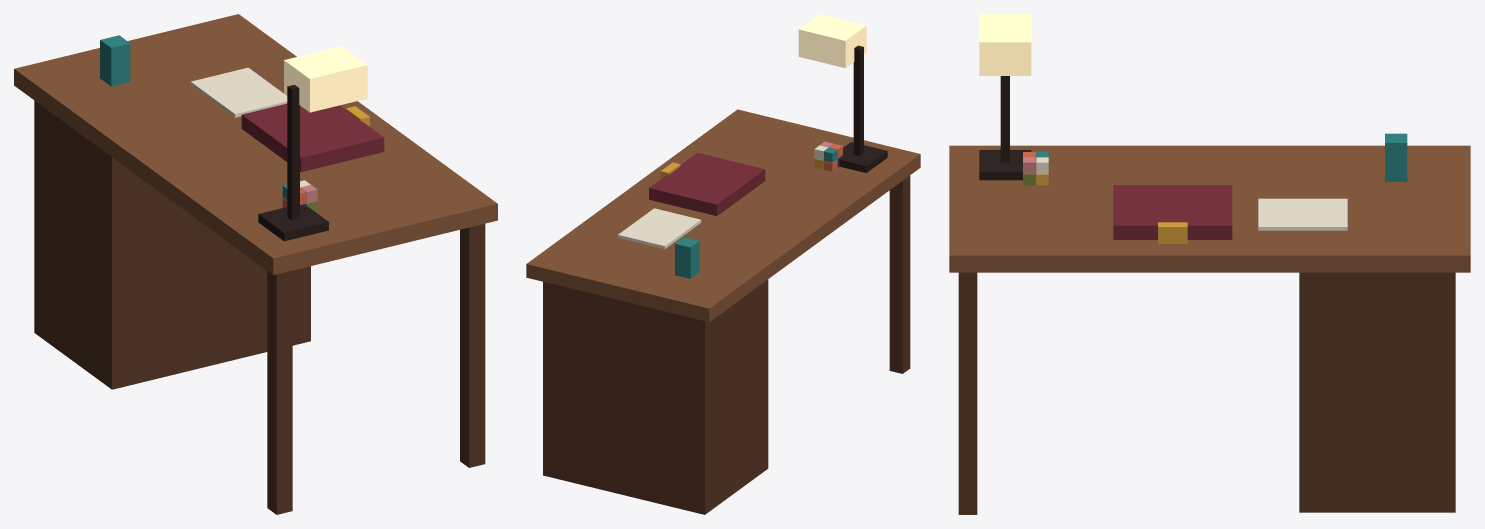
File: desk.glb
3 views of the same model, side by side, from view 1: azimuth 30°, elevation 25°; view 2: azimuth 150°, elevation 25°; view 3: azimuth 270°, elevation 25° (orthographic). The views are drawn at different scales.
Visible parts, largest first — view 1: Box1, Box2, Box4, Box3, Box5, Box19, Box7, Box18, Box17, Box8; view 2: Box2, Box1, Box5, Box4, Box19, Box7, Box18, Box8, Box17; view 3: Box1, Box2, Box5, Box3, Box19, Box7, Box17, Box8, Box18, Box6.
Boxes of the visible parts, x1,y1,x2,y2 form: Box1: (14, 14, 497, 275); Box2: (34, 100, 310, 389); Box4: (267, 270, 292, 514); Box3: (460, 223, 485, 467); Box5: (241, 103, 384, 171); Box19: (284, 46, 367, 112); Box7: (190, 67, 287, 117); Box18: (287, 84, 299, 220); Box17: (258, 206, 328, 241); Box8: (100, 35, 130, 86); Box2: (543, 279, 768, 514); Box1: (526, 109, 920, 322); Box5: (649, 153, 765, 215); Box4: (889, 175, 910, 373); Box19: (798, 14, 866, 68); Box7: (618, 208, 701, 248); Box18: (853, 45, 863, 156); Box8: (675, 237, 699, 278); Box17: (839, 142, 887, 172); Box1: (949, 145, 1470, 272); Box2: (1299, 272, 1455, 512); Box5: (1113, 185, 1232, 239); Box3: (958, 272, 977, 514); Box19: (979, 14, 1031, 75); Box7: (1258, 198, 1347, 230); Box17: (979, 150, 1031, 180); Box8: (1385, 133, 1407, 181); Box18: (1000, 76, 1009, 162); Box6: (1158, 222, 1187, 243).
Size of the model in its own units: 0.7 by 1.25 by 1.4.
